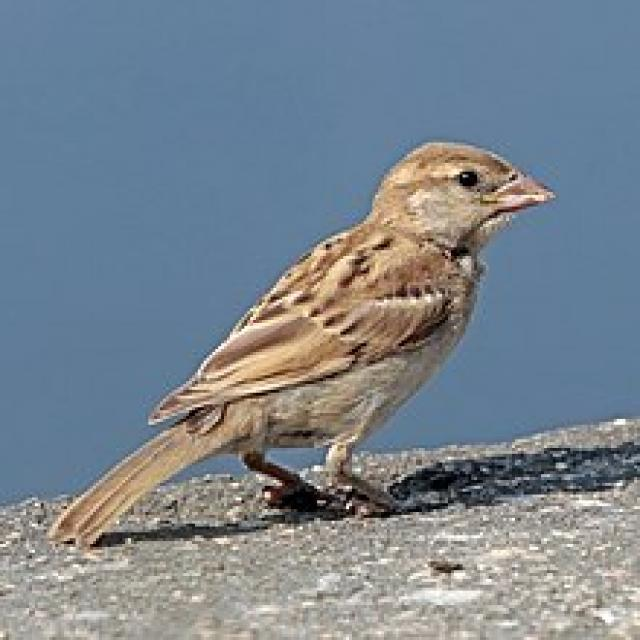bird: (48, 128, 560, 549)
